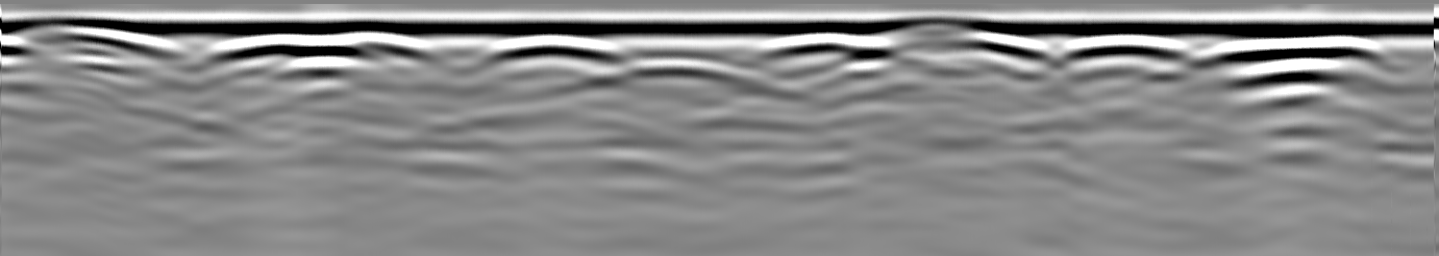pipe: (3, 17, 181, 63), (867, 17, 1007, 56)
steel: (1189, 36, 1384, 72), (207, 33, 366, 68), (483, 34, 623, 69), (755, 34, 902, 66), (1056, 36, 1196, 69)
